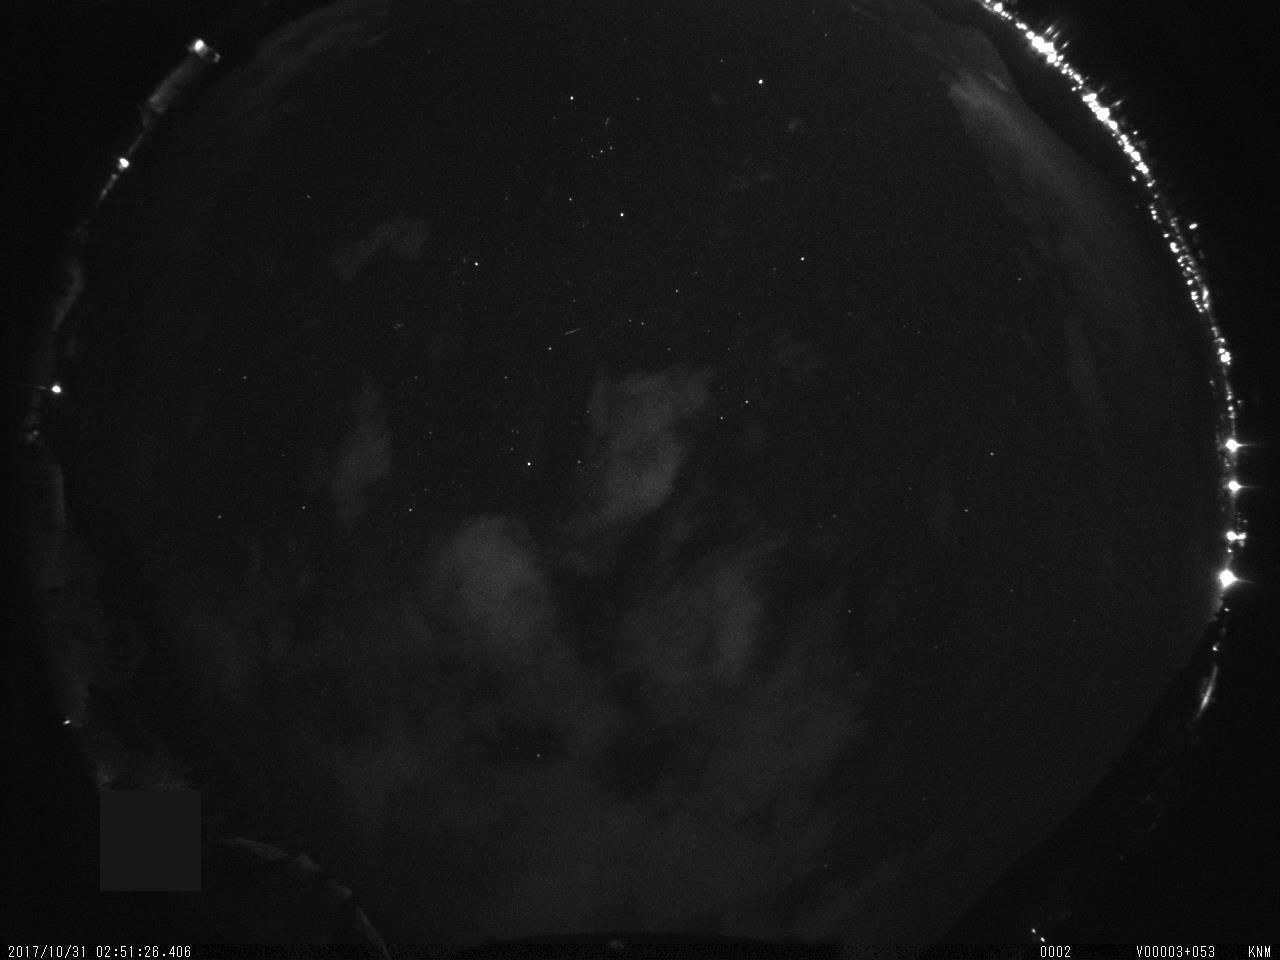meteor: (554, 323, 589, 343)
